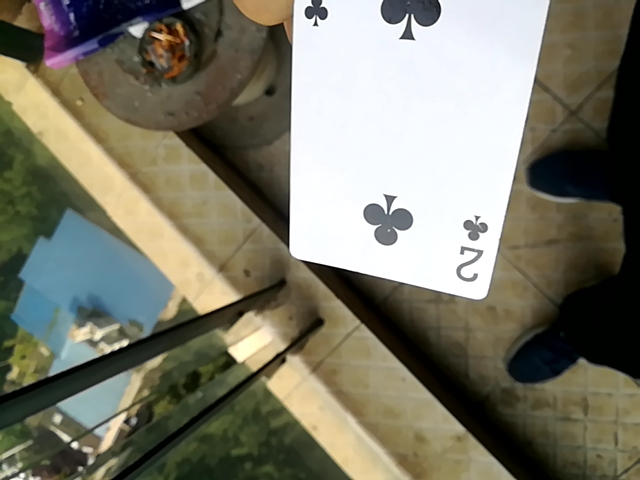mh 2: (284, 0, 560, 296)
